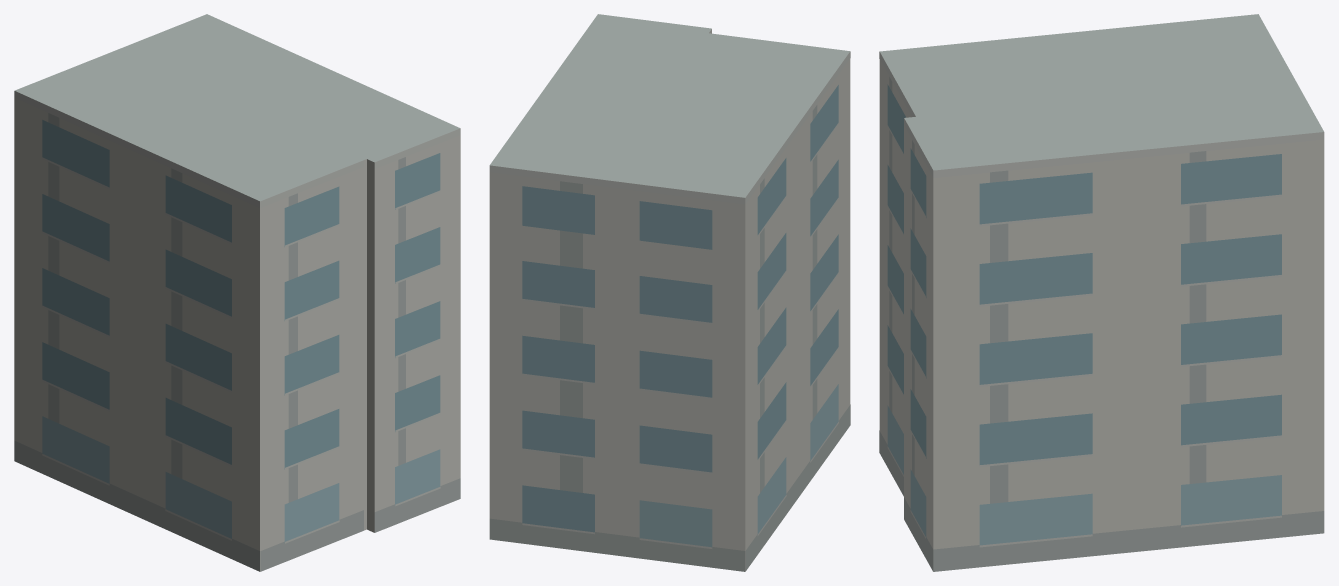
The model's file is survey-upis-32623699.glb.
3 views of the same model, side by side, from view 1: azimuth 30°, elevation 25°; view 2: azimuth 150°, elevation 25°; view 3: azimuth 270°, elevation 25° (orthographic). The views are drawn at different scales.
Parts seen in each view (by area): view 1: survey-upis-32623699.tmp; view 2: survey-upis-32623699.tmp; view 3: survey-upis-32623699.tmp.
Part boxes in pixels (left/top/right/bottom): survey-upis-32623699.tmp: left=14, top=14, right=460, bottom=571; survey-upis-32623699.tmp: left=489, top=14, right=850, bottom=571; survey-upis-32623699.tmp: left=879, top=14, right=1324, bottom=571.
Size of the model in its own units: 11.05 by 13.2 by 13.27.
